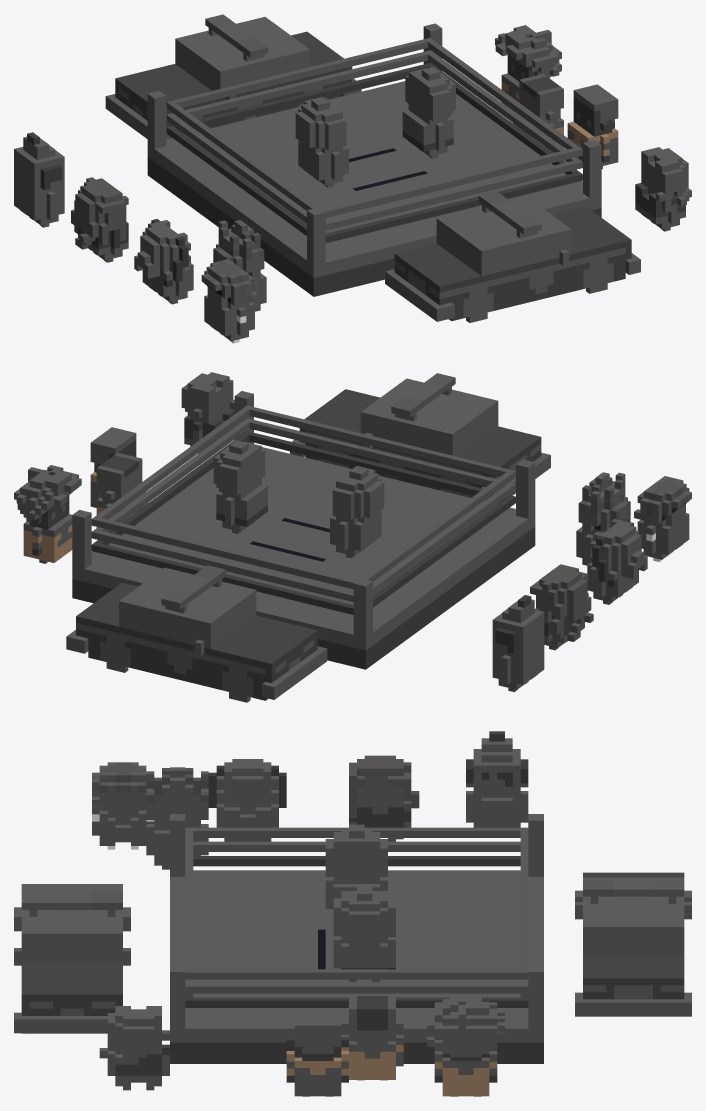
Rendered from scene_sumo.obj.
The picture shows the model from 3 angles, top to bottom: view 1: azimuth 30°, elevation 25°; view 2: azimuth 150°, elevation 25°; view 3: azimuth 270°, elevation 25°; orthographic projection. The views are drawn at different scales.
Size of the model in its own units: 85 by 18 by 87.
